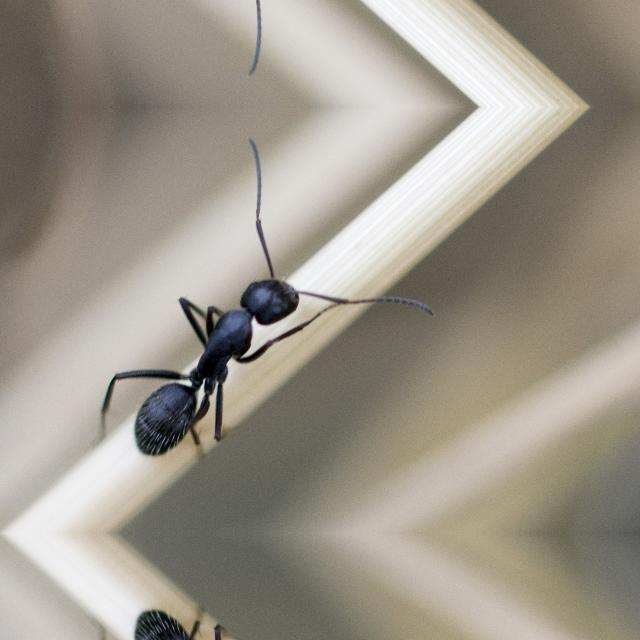Camponotus: (134, 249, 300, 459)
